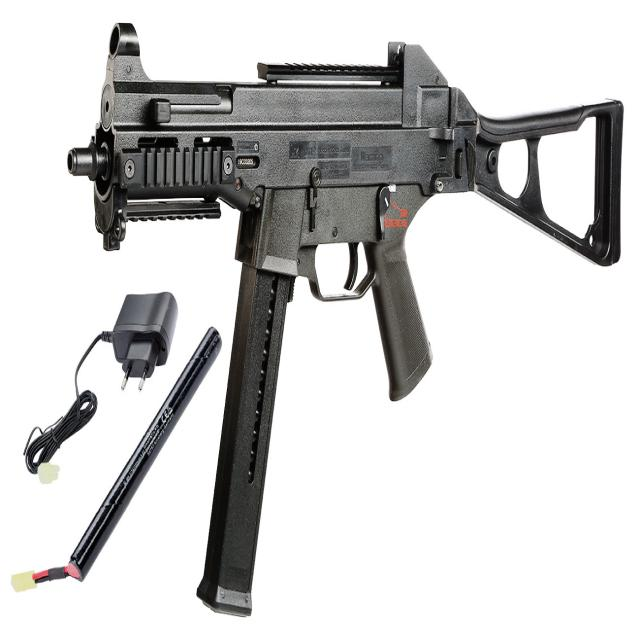SMG: (65, 23, 626, 619)
